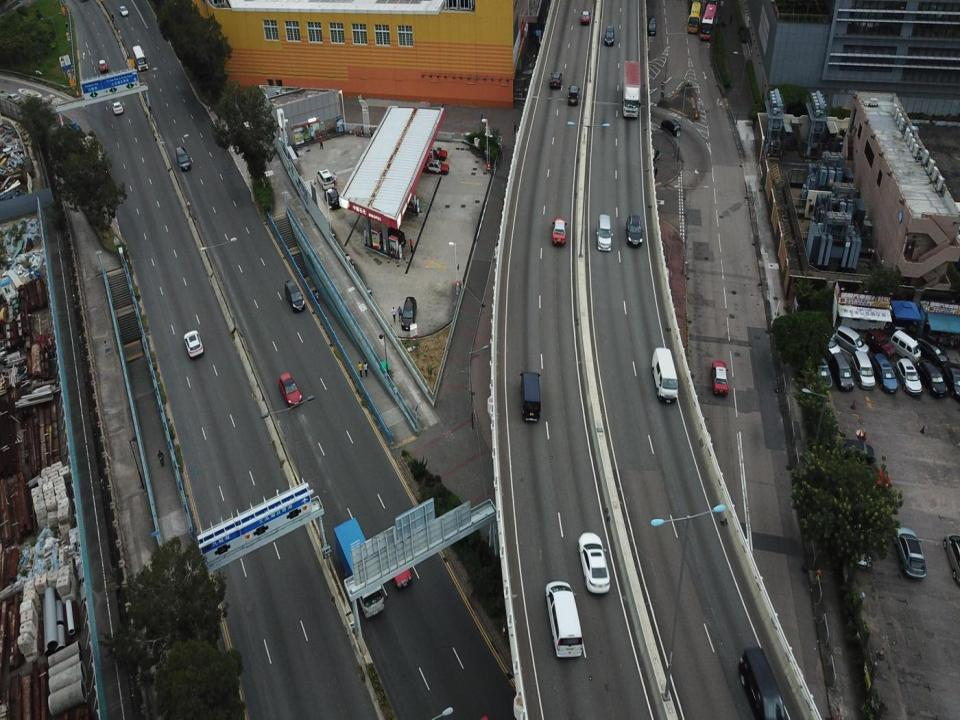bus: (698, 2, 717, 41), (684, 2, 702, 35), (132, 43, 148, 71)
car: (576, 528, 612, 596), (377, 526, 411, 588), (893, 520, 927, 581), (917, 355, 947, 401), (833, 325, 870, 360), (919, 332, 952, 370), (833, 438, 876, 467), (850, 347, 876, 390), (830, 350, 856, 392), (848, 523, 872, 568), (865, 327, 895, 362), (807, 353, 833, 392), (896, 359, 922, 397), (277, 369, 302, 408), (874, 352, 897, 394), (284, 277, 306, 314), (594, 211, 612, 254), (710, 359, 730, 397), (624, 213, 645, 248), (183, 328, 205, 359), (400, 297, 419, 332), (550, 214, 570, 246), (421, 159, 450, 179), (660, 113, 682, 139), (419, 138, 446, 158), (313, 166, 332, 190), (324, 185, 342, 209), (566, 83, 582, 108), (176, 143, 190, 170), (548, 71, 565, 90), (601, 25, 618, 44), (647, 12, 657, 36), (578, 9, 590, 25), (112, 100, 123, 117), (97, 56, 107, 73), (117, 4, 128, 17)
truck: (334, 517, 387, 620), (622, 55, 640, 120)
van: (735, 642, 789, 719), (540, 576, 585, 626), (650, 345, 678, 405), (518, 367, 543, 426), (890, 329, 922, 367)
